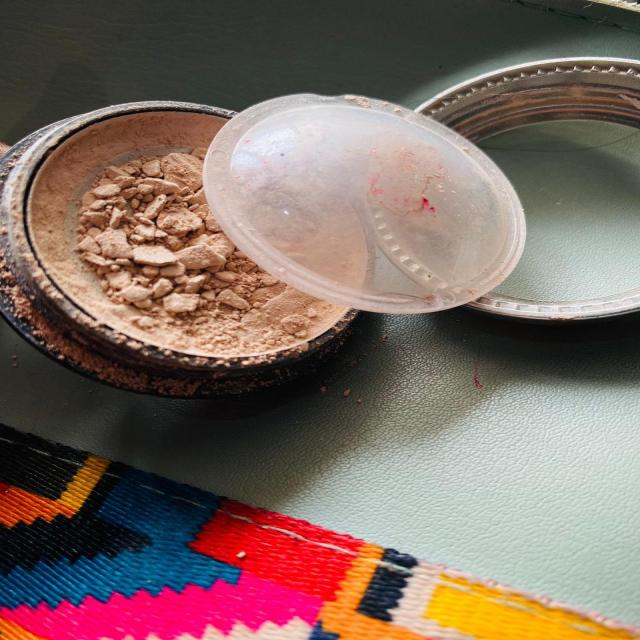powder: (94, 119, 370, 338)
